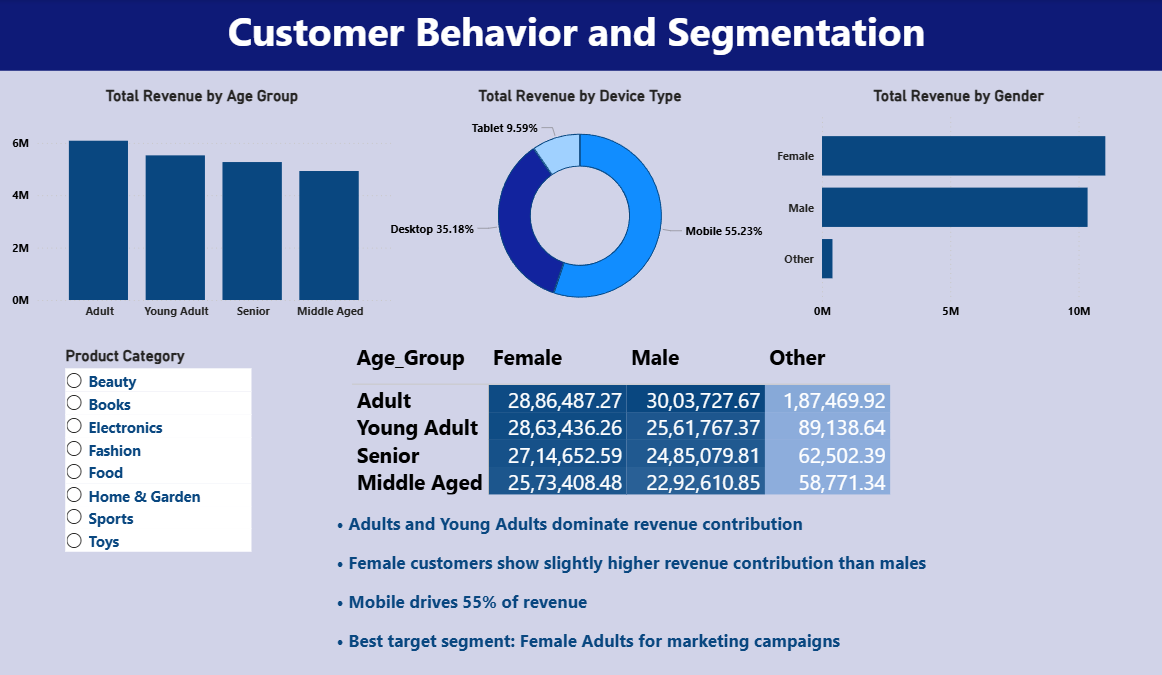

The page's visual inventory and layout, read from the dashboard file:
{"tool":"powerbi","page":{"name":"Customer Segmentation","canvas":[1274,741],"ordinal":1},"visuals":[{"type":"textbox","box":[0,0,1280.3,78.2],"z":0},{"type":"columnChart","title":"Total Revenue by Age Group","fields":{"Category":["ecommerce_cleaned.Age_Group"],"Y":["ecommerce_cleaned.Total Revenue"]},"box":[12.3,96.1,425.4,263.5],"z":1000},{"type":"barChart","fields":{"Category":["ecommerce_cleaned.Gender"],"Y":["ecommerce_cleaned.Total Revenue"]},"box":[846.7,96.1,410.3,263.5],"z":2000},{"type":"donutChart","title":"Total Revenue by Device Type","fields":{"Category":["ecommerce_cleaned.Device_Type"],"Y":["ecommerce_cleaned.Total Revenue"]},"box":[418.5,96.1,440.5,263.5],"z":3000},{"type":"pivotTable","fields":{"Rows":["ecommerce_cleaned.Age_Group"],"Columns":["ecommerce_cleaned.Gender"],"Values":["ecommerce_cleaned.Total Revenue"]},"box":[383.8,369.9,608.5,185.6],"z":4000},{"type":"listSlicer","title":"Product Category","fields":{"Values":["ecommerce_cleaned.Product_Category"]},"box":[71,379.7,213.1,233.5],"z":5000},{"type":"textbox","box":[361.5,555.5,850,185.6],"z":6001}]}

Visuals, with their boxes in screenshot pixels (x1, y1, x2, y2), scaled from the page's 1274x741 canvas onto the 1162x675 screenshot:
textbox: Rect(0, 0, 1161, 71)
"Total Revenue by Age Group" columnChart: Rect(11, 88, 399, 328)
barChart - ecommerce_cleaned.Gender x ecommerce_cleaned.Total Revenue: Rect(772, 88, 1146, 328)
"Total Revenue by Device Type" donutChart: Rect(382, 88, 783, 328)
pivotTable - ecommerce_cleaned.Age_Group x ecommerce_cleaned.Gender: Rect(350, 337, 905, 506)
"Product Category" listSlicer: Rect(65, 346, 259, 559)
textbox: Rect(330, 506, 1105, 674)
